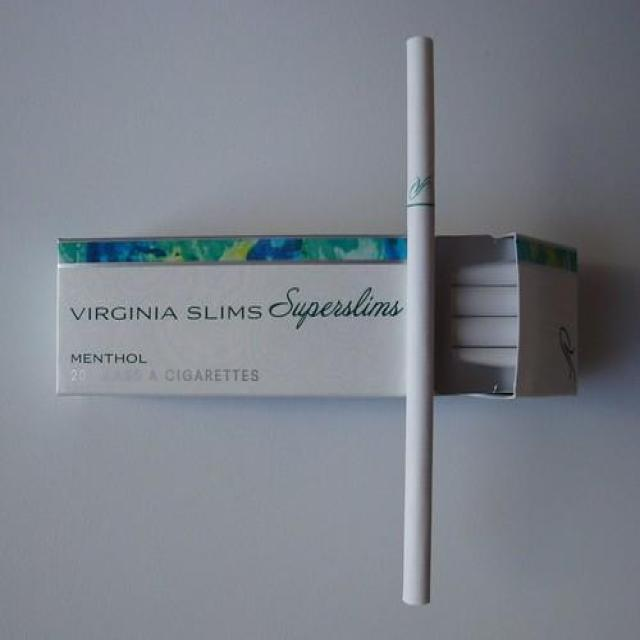cigarette: (401, 37, 435, 609)
